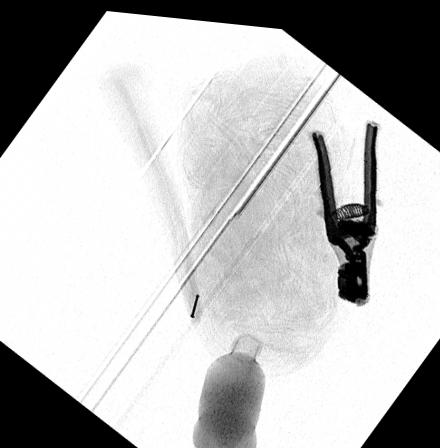Pliers: (307, 112, 380, 296)
